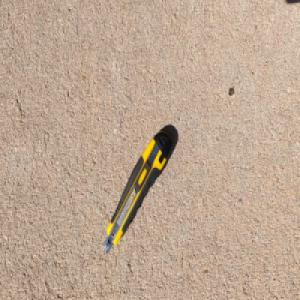Cutter: (102, 128, 174, 256)
